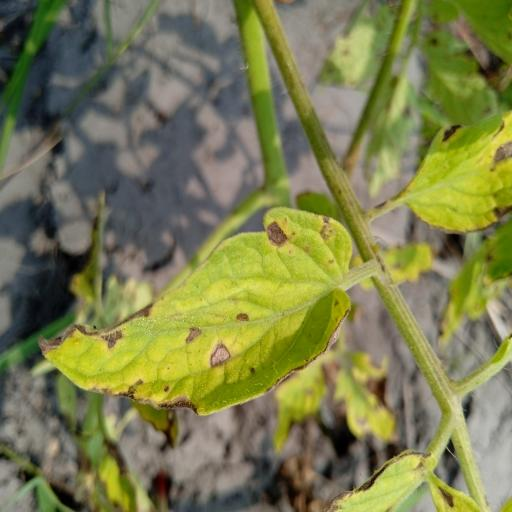Tomato_Brown_Spots: (36, 203, 356, 422)
